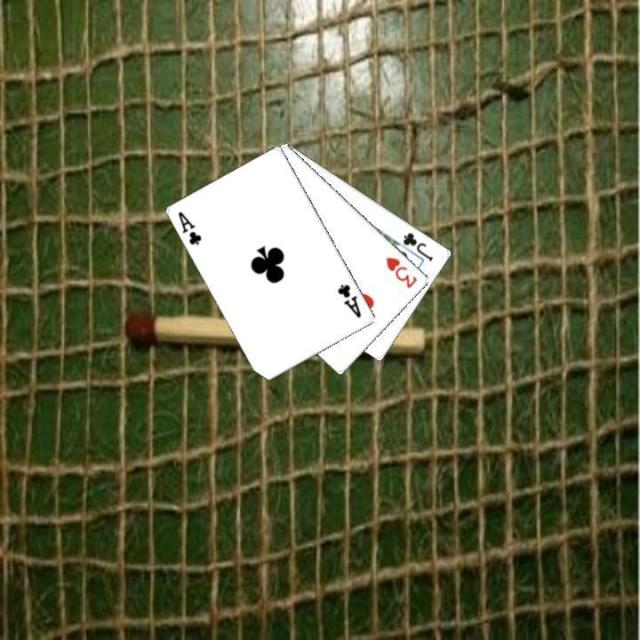3H: (382, 253, 420, 291)
AC: (334, 280, 364, 320), (174, 207, 204, 247)
JC: (399, 229, 436, 263)
